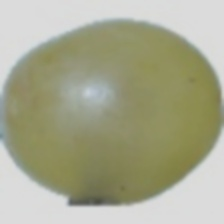grapes: (42, 28, 202, 165)
